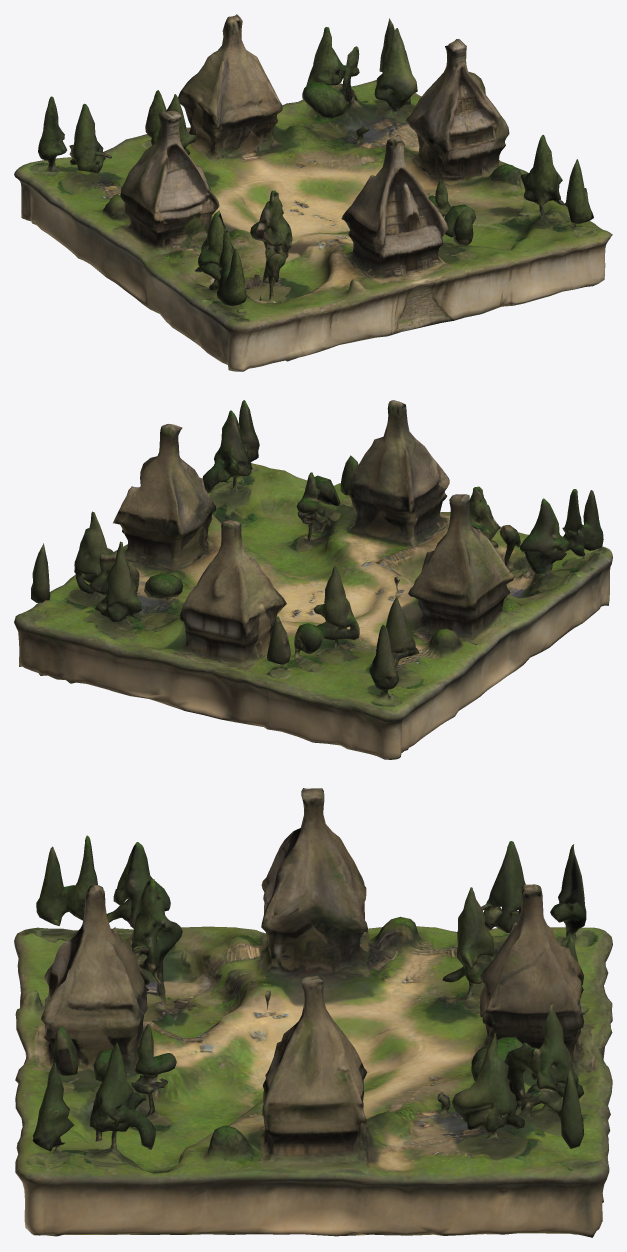
The model's file is world.glb.
3 renders of one model, top to bottom at view 1: azimuth 30°, elevation 25°; view 2: azimuth 150°, elevation 25°; view 3: azimuth 270°, elevation 25°, orthographic. The views are drawn at different scales.
Size of the model in its own units: 1.98 by 0.8514 by 1.98.
1 material, 1 textured.
